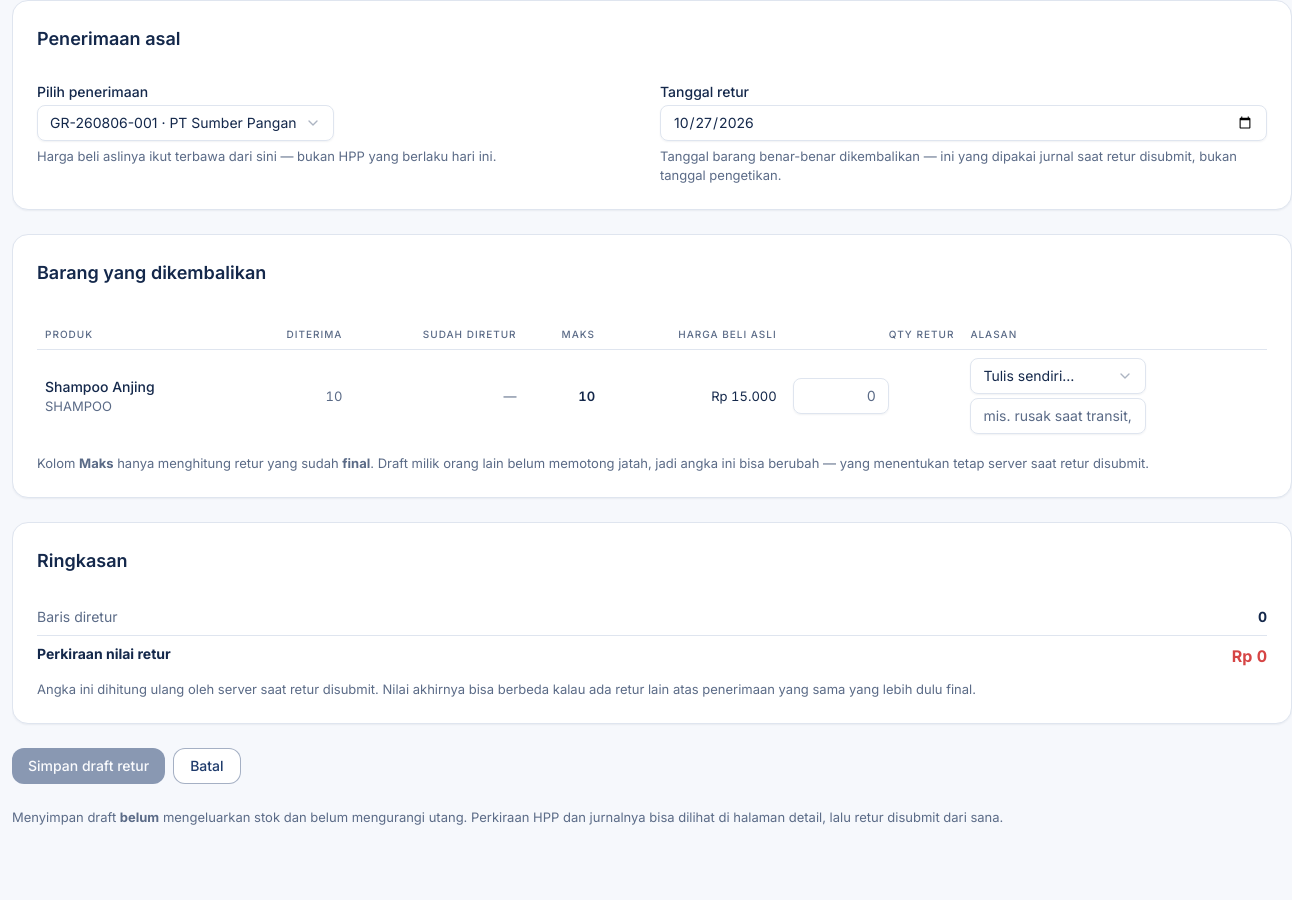
PurchaseReturnForm › refuses a quantity larger than what is still returnable
Type "99" into the field named "Qty retur Shampoo Anjing" at {"x": 841, "y": 396}, box [793,378,889,414]
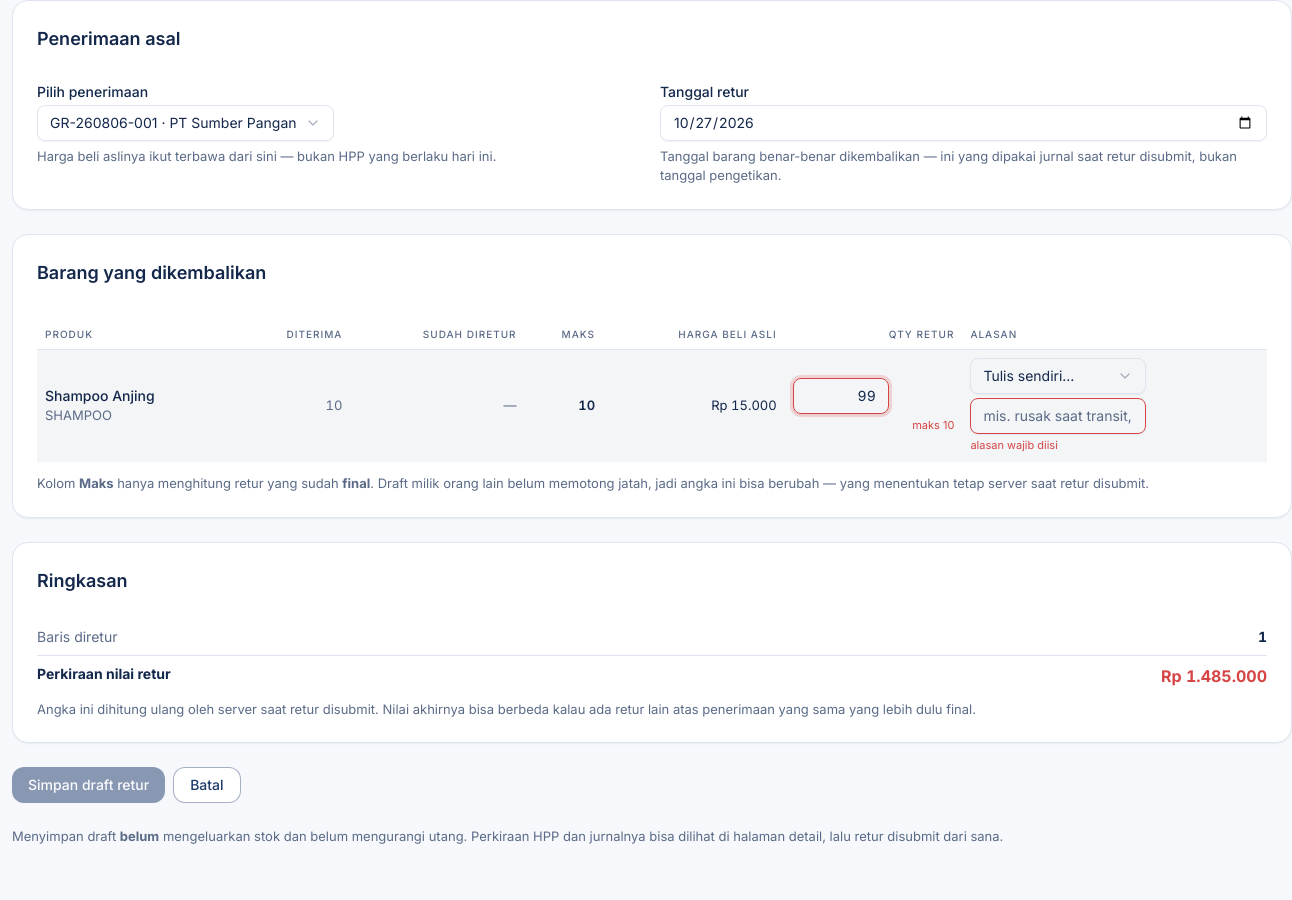
Expected: the button "Simpan draft retur" is disabled, [12,767,165,803]
Result: the text "maks 10" is shown at [912,418,954,432]
